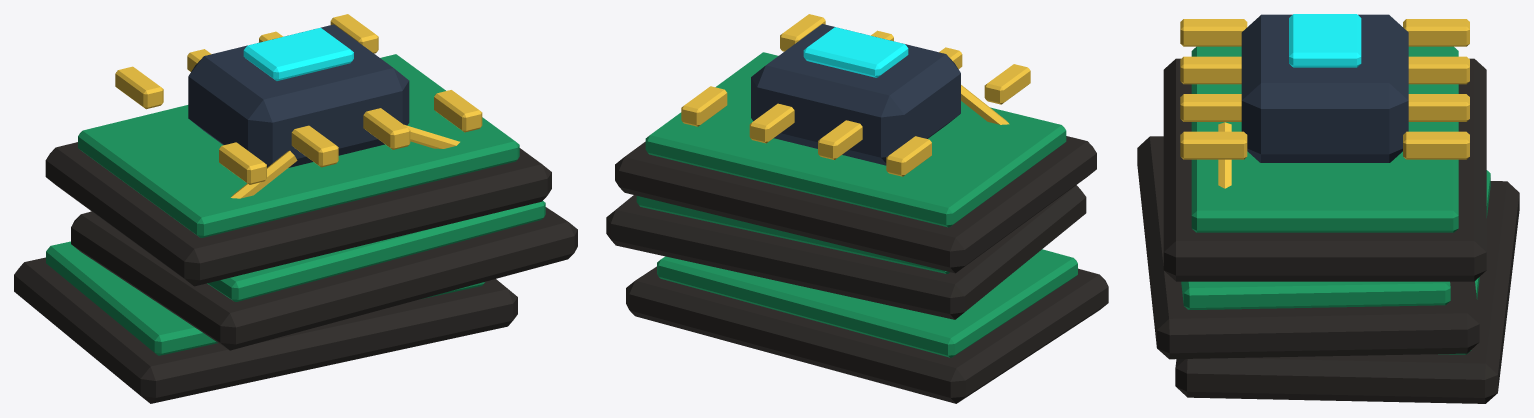
File: chips.glb
3 renders of one model, left to right at view 1: azimuth 30°, elevation 25°; view 2: azimuth 150°, elevation 25°; view 3: azimuth 270°, elevation 25°, orthographic. The views are drawn at different scales.
Visible parts, largest first — view 1: chips-green-board-2, chips-black-tray-2, chips-black-tray-1, chips-black-tray-0, chips-hero-microchip, chips-green-board-1, chips-green-board-0, chips-cyan-die-window, chips-gold-pin-back-0, chips-gold-pin-front-3, chips-gold-pin-front-0, chips-gold-pin-front-2 (+4 smaller); view 2: chips-green-board-2, chips-black-tray-0, chips-black-tray-2, chips-black-tray-1, chips-hero-microchip, chips-green-board-0, chips-cyan-die-window, chips-green-board-1, chips-gold-pin-front-0, chips-gold-pin-back-3, chips-gold-pin-back-0, chips-gold-pin-back-2 (+3 smaller); view 3: chips-black-tray-2, chips-green-board-2, chips-black-tray-1, chips-hero-microchip, chips-black-tray-0, chips-green-board-1, chips-cyan-die-window, chips-gold-pin-front-3, chips-gold-pin-back-3, chips-gold-pin-front-1, chips-gold-pin-back-1, chips-gold-pin-front-0 (+4 smaller).
Part boxes in pixels (box(x1,y1,x2,y2)): chips-green-board-2: box(78, 54, 519, 237); chips-black-tray-2: box(45, 142, 551, 286); chips-black-tray-1: box(71, 207, 577, 350); chips-black-tray-0: box(14, 257, 517, 403); chips-hero-microchip: box(188, 24, 409, 167); chips-green-board-1: box(207, 201, 545, 301); chips-green-board-0: box(46, 241, 484, 355); chips-cyan-die-window: box(243, 27, 353, 80); chips-gold-pin-back-0: box(115, 66, 163, 109); chips-gold-pin-front-3: box(434, 90, 482, 132); chips-gold-pin-front-0: box(219, 142, 266, 184); chips-gold-pin-front-2: box(363, 108, 410, 149); chips-green-board-2: box(645, 52, 1066, 227); chips-black-tray-0: box(626, 266, 1108, 403); chips-black-tray-2: box(615, 136, 1096, 273); chips-black-tray-1: box(606, 185, 1086, 319); chips-hero-microchip: box(751, 24, 960, 165); chips-green-board-0: box(657, 249, 1077, 357); chips-cyan-die-window: box(803, 27, 908, 77); chips-green-board-1: box(636, 196, 949, 273); chips-gold-pin-front-0: box(984, 64, 1030, 104); chips-gold-pin-back-3: box(681, 86, 727, 126); chips-gold-pin-back-0: box(886, 136, 931, 176); chips-gold-pin-back-2: box(749, 103, 794, 143); chips-black-tray-2: box(1163, 58, 1486, 281); chips-green-board-2: box(1191, 46, 1458, 232); chips-black-tray-1: box(1137, 136, 1479, 359); chips-hero-microchip: box(1241, 14, 1408, 162); chips-black-tray-0: box(1175, 181, 1519, 403); chips-green-board-1: box(1181, 281, 1450, 309); chips-cyan-die-window: box(1289, 14, 1361, 67); chips-gold-pin-front-3: box(1180, 131, 1247, 159); chips-gold-pin-back-3: box(1403, 131, 1469, 159); chips-gold-pin-front-1: box(1180, 56, 1241, 84); chips-gold-pin-back-1: box(1408, 56, 1469, 84); chips-gold-pin-front-0: box(1180, 19, 1247, 46).
Size of the model in its own units: 1.64 by 1 by 1.2.
